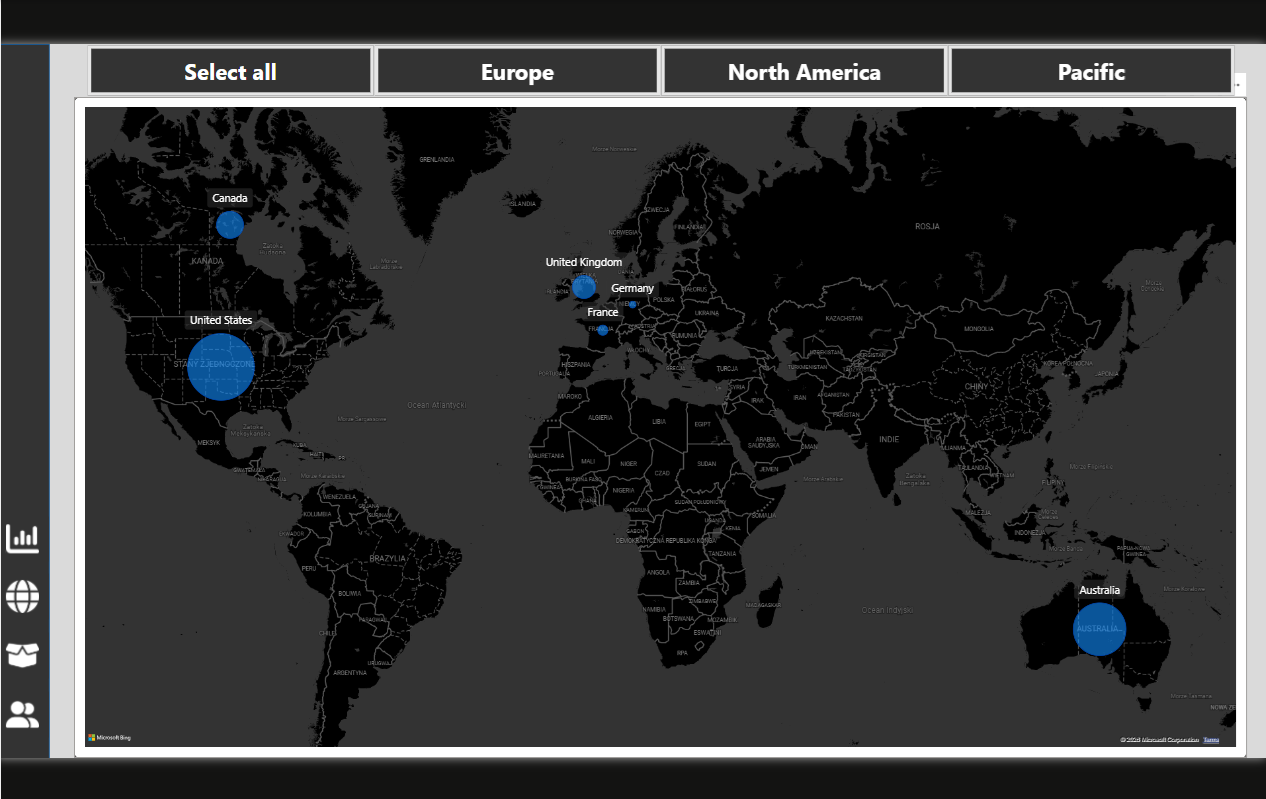

The dashboard page shown, as its layout file describes it:
{"tool":"powerbi","page":{"name":"Map","canvas":[1920,1080],"ordinal":1},"visuals":[{"type":"shape","box":[0,0,81,1081],"z":0},{"type":"map","fields":{"Category":["Territory Lookup.Country"],"Size":["Measure Table.Total Orders"]},"box":[118.2,79.5,1772.7,1000],"z":1000},{"type":"slicer","fields":{"Values":["Territory Lookup.Continent"]},"box":[118.2,0,1772.7,79.5],"z":2000},{"type":"actionButton","box":[0,712,80,72],"z":3000},{"type":"actionButton","box":[0,887.3,80,74],"z":4000},{"type":"actionButton","box":[0,798.7,80,74],"z":5000},{"type":"actionButton","box":[0,976,80,74],"z":6000}]}

Visuals, with their boxes on the page's 1920x1080 design canvas (x1, y1, x2, y2). These are canvas units, not pixel positions in the 1266x799 screenshot, which may show the page scaled, cropped or inside an application window:
shape: [x1=0, y1=0, x2=81, y2=1081]
map - Territory Lookup.Country x Measure Table.Total Orders: [x1=118, y1=80, x2=1891, y2=1080]
slicer - Territory Lookup.Continent: [x1=118, y1=0, x2=1891, y2=80]
actionButton: [x1=0, y1=712, x2=80, y2=784]
actionButton: [x1=0, y1=887, x2=80, y2=961]
actionButton: [x1=0, y1=799, x2=80, y2=873]
actionButton: [x1=0, y1=976, x2=80, y2=1050]
